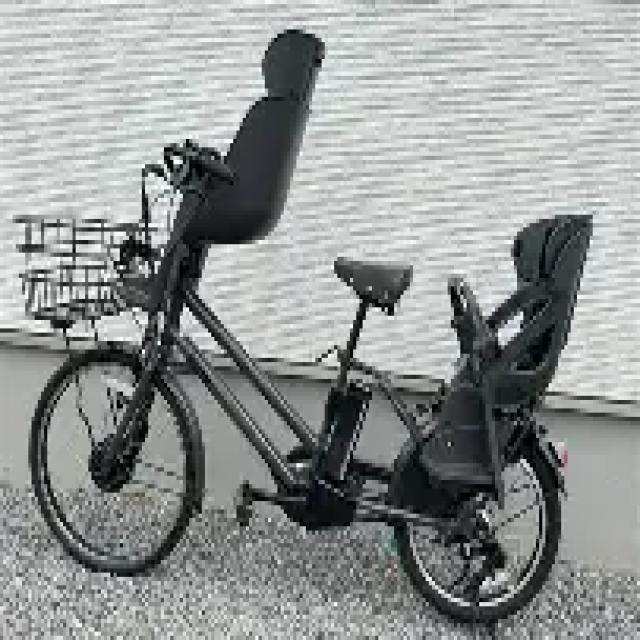basket: (13, 206, 154, 321)
battery: (314, 380, 376, 488)
childseat: (416, 207, 595, 526), (135, 37, 327, 301)
